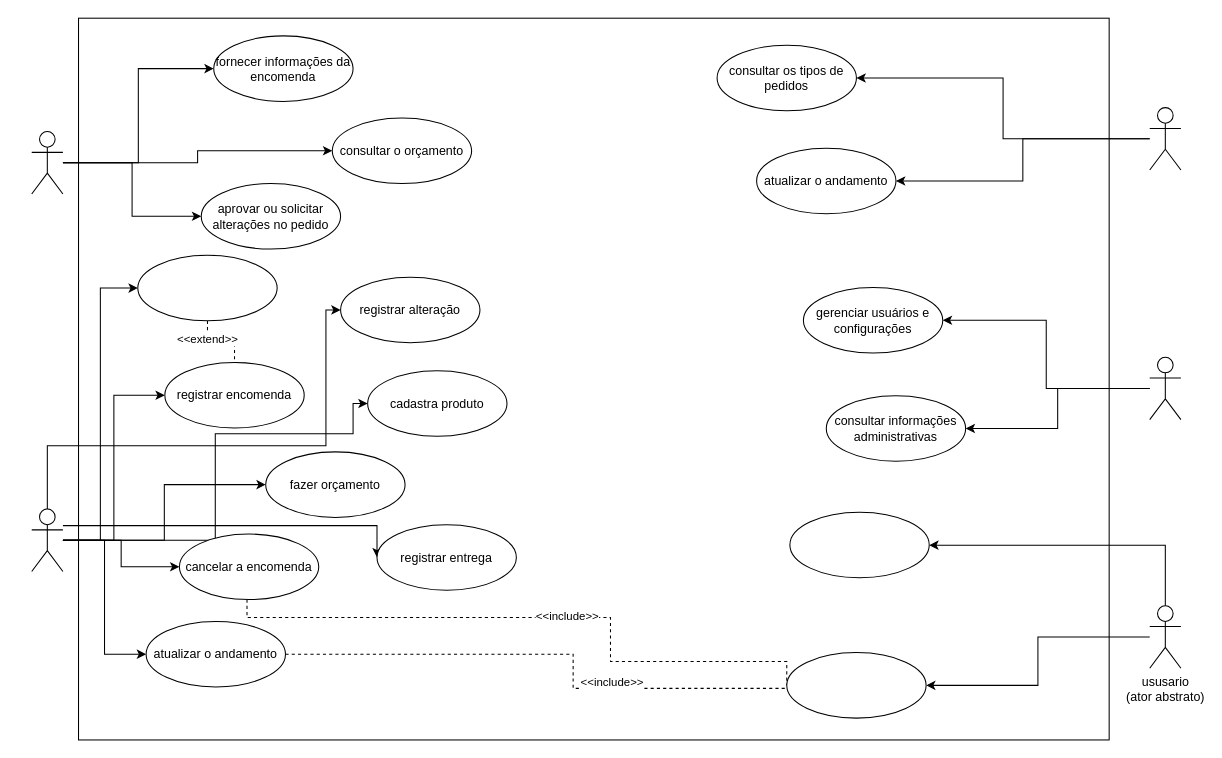
Some shapes in this 1222 by 758 pixel diagram are drawn without their labels. The centre of each missing label's shape, as x and y in pixels:
administrador: the point at 1165,388
atendente: the point at 47,539
cadastrar cliente: the point at 207,287
cliente: the point at 47,162
consultar as encomendas: the point at 856,685
fazer login: the point at 859,544
Responsavel pela produção: the point at 1165,138
